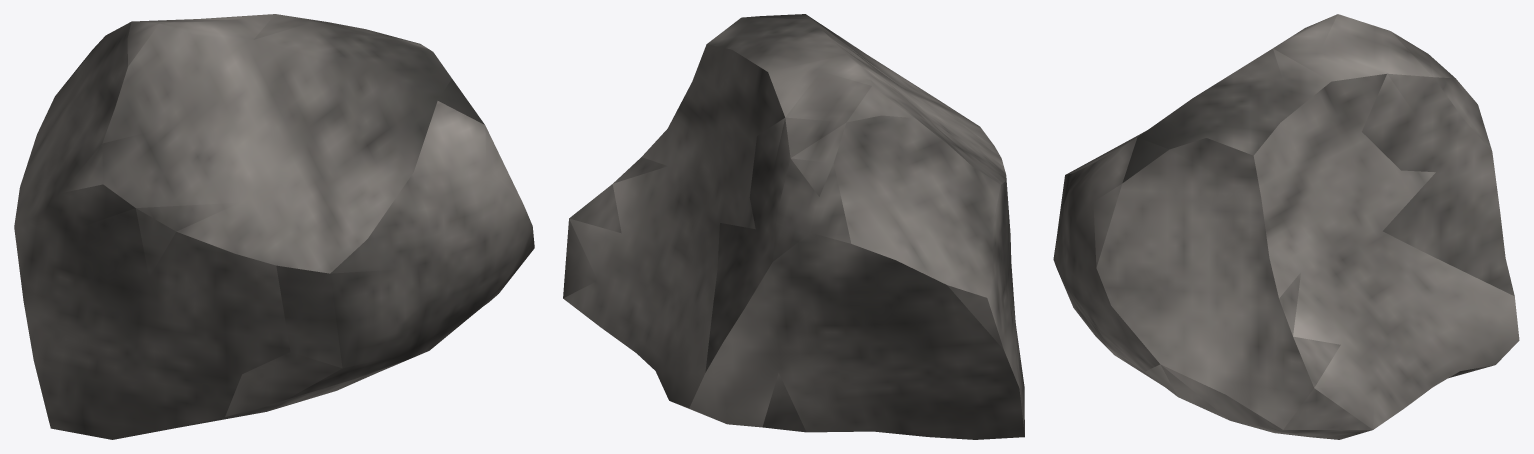
The model's file is rock-lod0.glb.
3 views of the same model, side by side, from view 1: azimuth 30°, elevation 25°; view 2: azimuth 150°, elevation 25°; view 3: azimuth 270°, elevation 25° (orthographic). The views are drawn at different scales.
Visible parts, largest first — view 1: Rock; view 2: Rock; view 3: Rock.
Part boxes in pixels (left/top/right/bottom): Rock: left=14, top=14, right=534, bottom=439; Rock: left=563, top=14, right=1024, bottom=439; Rock: left=1053, top=14, right=1519, bottom=439.
Size of what is drawn, in the model's own units: 0.757 by 0.5448 by 0.6591.
1 material, 1 textured.
